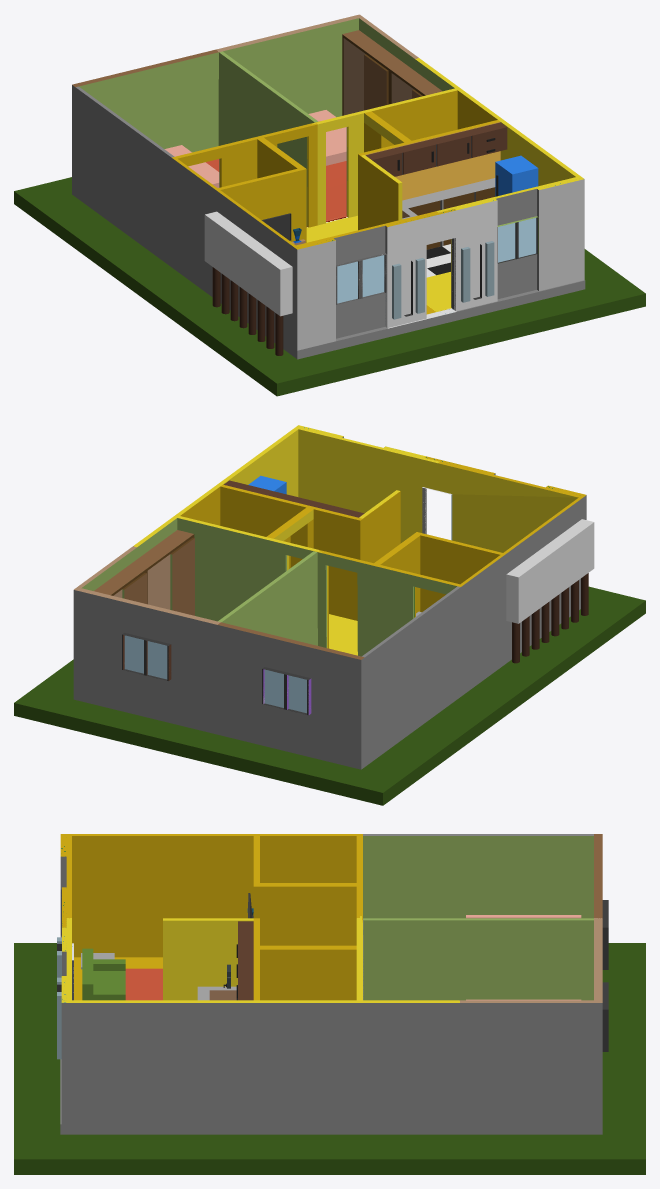
File: houseold.gltf
The picture shows the model from 3 angles, top to bottom: view 1: azimuth 30°, elevation 25°; view 2: azimuth 150°, elevation 25°; view 3: azimuth 270°, elevation 25°; orthographic projection. The views are drawn at different scales.
Parts seen in each view (by area): view 1: Cube, ElevationCylinders, Fridge; view 2: Cube, ElevationCylinders; view 3: Cube, Sofa, Carpet.
Part boxes in pixels (<box>): Cube: <box>14,14,645,396</box>; ElevationCylinders: <box>212,267,283,355</box>; Fridge: <box>495,155,538,196</box>; Cube: <box>14,425,645,805</box>; ElevationCylinders: <box>512,573,588,663</box>; Cube: <box>14,834,645,1174</box>; Sofa: <box>82,948,125,1000</box>; Carpet: <box>125,968,162,1000</box>.
Size of the model in its own units: 15.3 by 4.87 by 18.87.
1 material, 1 textured.
